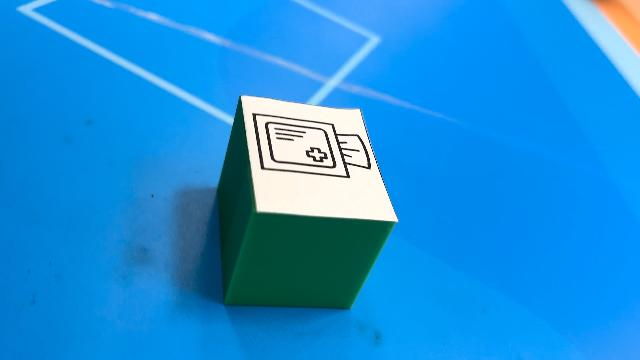napkin: (216, 93, 400, 311)
